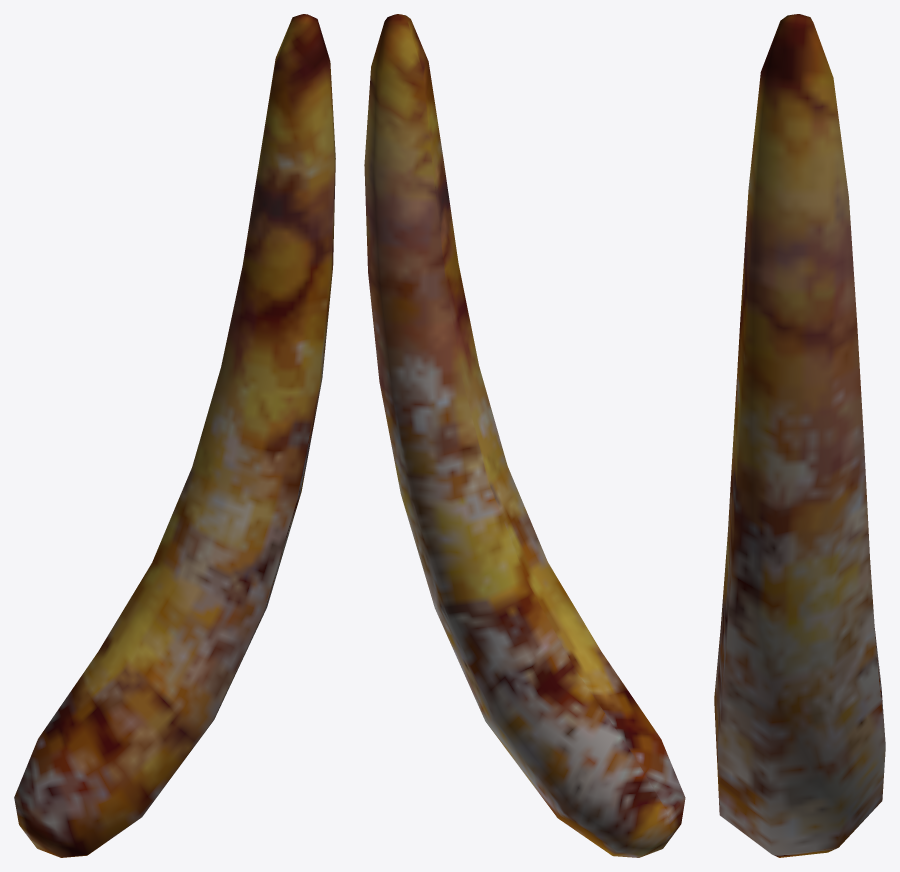
The model's file is Mutation1.fbx.
3 renders of one model, left to right at view 1: azimuth 30°, elevation 25°; view 2: azimuth 150°, elevation 25°; view 3: azimuth 270°, elevation 25°, orthographic. The views are drawn at different scales.
Parts seen in each view (by area): view 1: P_Mutation01.mo; view 2: P_Mutation01.mo; view 3: P_Mutation01.mo.
Part boxes in pixels (x1,y1,x2,y2): P_Mutation01.mo: (14,14,335,857); P_Mutation01.mo: (364,14,685,857); P_Mutation01.mo: (714,14,885,857).
Bounding box in the file's own units: 15.81 × 38.39 × 6.1.
